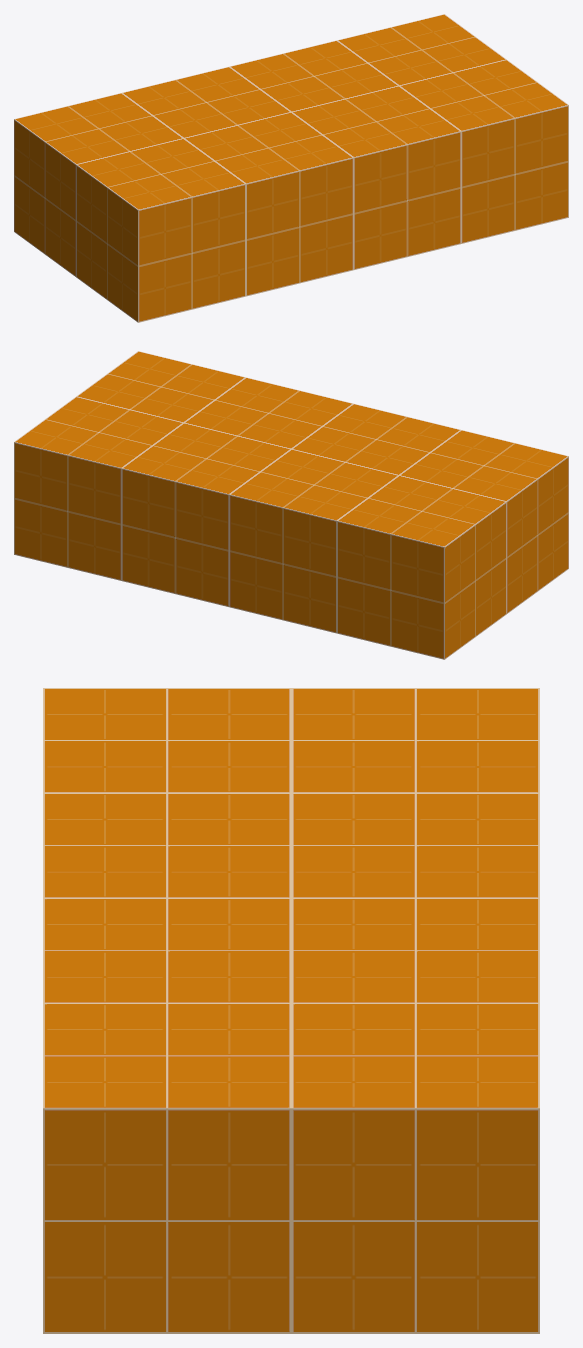
The model's file is Block_4x2x1.obj.
The picture shows the model from 3 angles, top to bottom: view 1: azimuth 30°, elevation 25°; view 2: azimuth 150°, elevation 25°; view 3: azimuth 270°, elevation 25°; orthographic projection. The views are drawn at different scales.
Visible parts, largest first — view 1: Block_4x2x1_Cube.192; view 2: Block_4x2x1_Cube.192; view 3: Block_4x2x1_Cube.192.
Boxes of the visible parts, x1=… form: Block_4x2x1_Cube.192: x1=14, y1=14, x2=568, y2=322; Block_4x2x1_Cube.192: x1=14, y1=351, x2=568, y2=659; Block_4x2x1_Cube.192: x1=43, y1=688, x2=539, y2=1333.
Size of the model in its own units: 4 by 1 by 2.
1 material, 1 textured.
